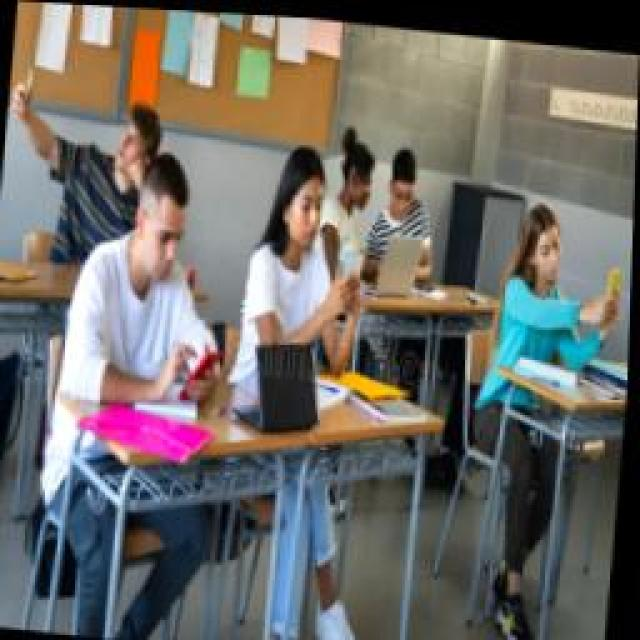phone: (60, 143, 240, 415), (233, 140, 375, 385), (0, 52, 165, 258), (495, 190, 633, 368)
